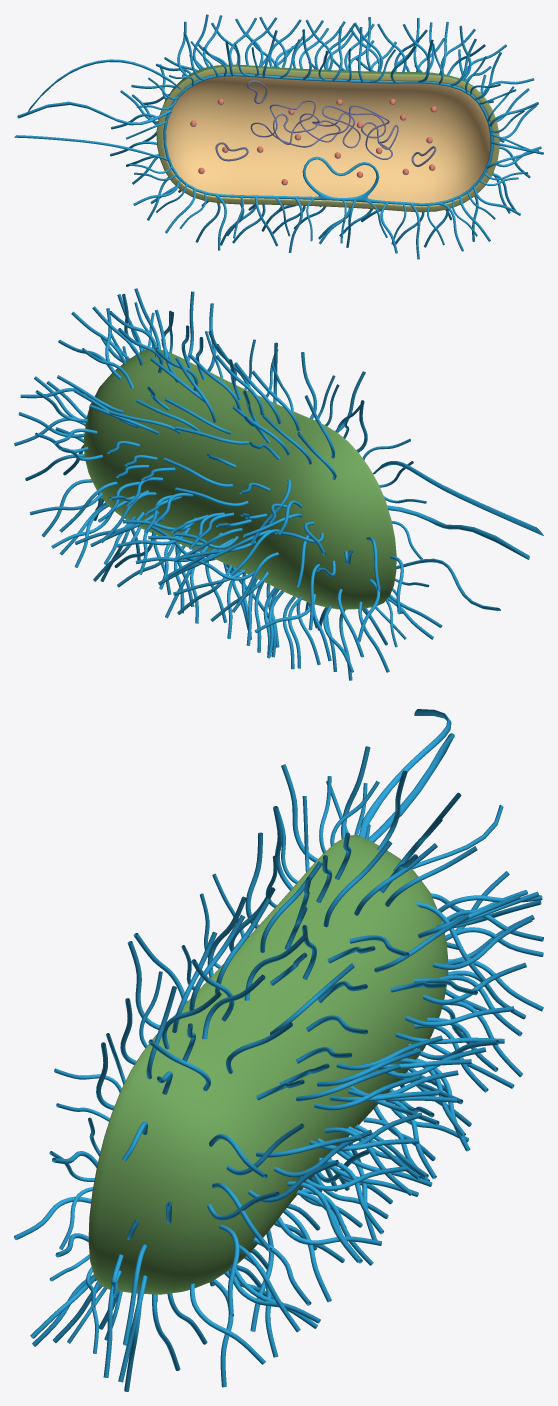
The model's file is Extremophilesv2.glb.
3 renders of one model, top to bottom at view 1: azimuth 30°, elevation 25°; view 2: azimuth 150°, elevation 25°; view 3: azimuth 270°, elevation 25°, orthographic. The views are drawn at different scales.
Visible parts, largest first — view 1: Box001_tt_0, Line001_tt_0, Line005_tt_0, Line030_tt_0, Line031_tt_0, Line029_tt_0; view 2: Box001_tt_0, Line031_tt_0, Line030_tt_0, Line029_tt_0; view 3: Box001_tt_0, Line031_tt_0, Line030_tt_0.
Boxes of the visible parts, left/top/right/bottom form: Box001_tt_0: left=156, top=64, right=499, bottom=212; Line001_tt_0: left=163, top=73, right=493, bottom=206; Line005_tt_0: left=250, top=100, right=398, bottom=159; Line030_tt_0: left=17, top=101, right=171, bottom=125; Line031_tt_0: left=27, top=59, right=186, bottom=113; Line029_tt_0: left=14, top=135, right=168, bottom=160; Box001_tt_0: left=83, top=348, right=396, bottom=609; Line031_tt_0: left=372, top=461, right=543, bottom=535; Line030_tt_0: left=387, top=505, right=529, bottom=559; Line029_tt_0: left=396, top=558, right=500, bottom=610; Box001_tt_0: left=88, top=834, right=448, bottom=1294; Line031_tt_0: left=359, top=709, right=451, bottom=838; Line030_tt_0: left=368, top=733, right=454, bottom=842.
Size of the model in its own units: 2.3 by 1.15 by 1.23.
2 materials, 2 textured.
